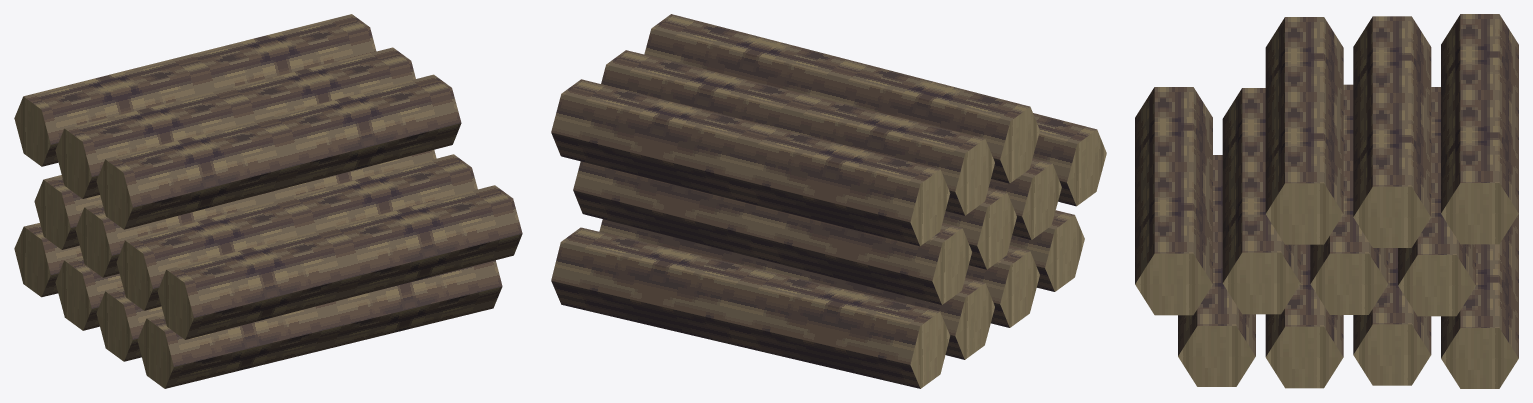
Rendered from firewood_stack.glb.
3 renders of one model, left to right at view 1: azimuth 30°, elevation 25°; view 2: azimuth 150°, elevation 25°; view 3: azimuth 270°, elevation 25°, orthographic. The views are drawn at different scales.
Visible parts, largest first — view 1: firewood_stack; view 2: firewood_stack; view 3: firewood_stack.
Boxes of the visible parts, x1,y1,x2,y2 form: firewood_stack: [14, 14, 522, 388]; firewood_stack: [551, 14, 1106, 388]; firewood_stack: [1135, 14, 1518, 388].
Bounding box in the file's own units: 1.04 × 0.5876 × 0.985.
Materials: 2 (2 with a texture image).
